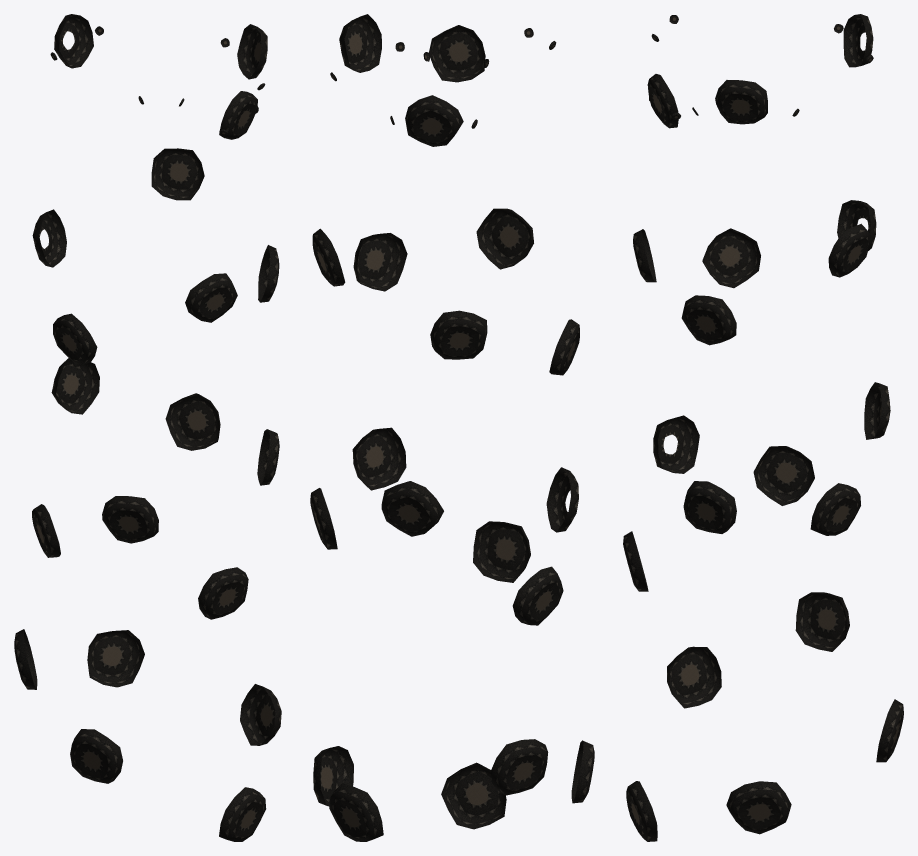
The model's file is Sitka_Mature_01_LowPruned_Healed_LOD2.fbx.
3 views of the same model, side by side, from view 1: azimuth 30°, elevation 25°; view 2: azimuth 150°, elevation 25°; view 3: azimuth 270°, elevation 25° (orthographic). The views are drawn at different scales.
Visible parts, largest first — view 1: Sitka_Mature_01_LowPruned_Healed_LOD2_Scars; view 2: Sitka_Mature_01_LowPruned_Healed_LOD2_Scars; view 3: Sitka_Mature_01_LowPruned_Healed_LOD2_Scars.
Boxes of the visible parts, left/top/right/bottom form: Sitka_Mature_01_LowPruned_Healed_LOD2_Scars: left=14, top=14, right=281, bottom=841; Sitka_Mature_01_LowPruned_Healed_LOD2_Scars: left=310, top=14, right=594, bottom=841; Sitka_Mature_01_LowPruned_Healed_LOD2_Scars: left=623, top=14, right=903, bottom=841.
Size of what is drawn, in the model's own units: 128 by 403 by 130.
2 materials, 2 textured.
